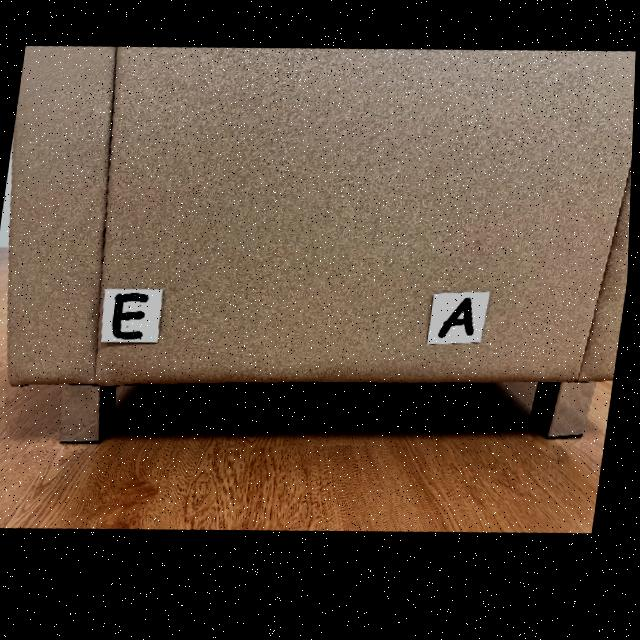A: (442, 308, 476, 346)
E: (114, 296, 151, 342)
